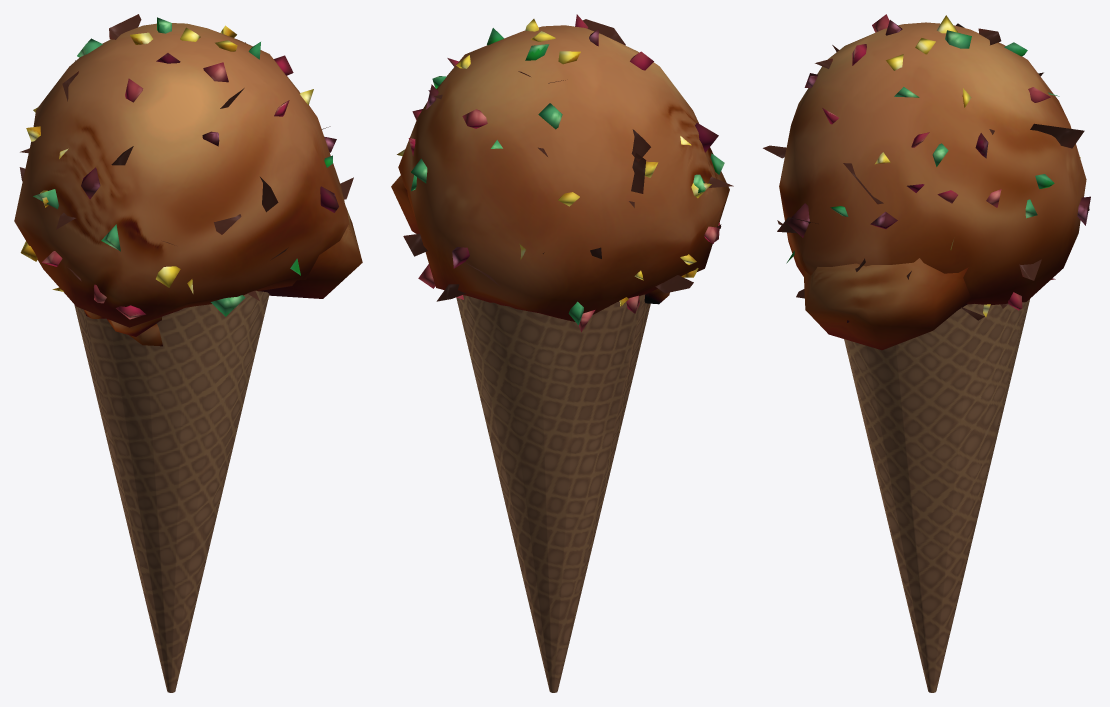
The model's file is icecreamChocowithtop.fbx.
3 renders of one model, left to right at view 1: azimuth 30°, elevation 25°; view 2: azimuth 150°, elevation 25°; view 3: azimuth 270°, elevation 25°, orthographic.
Parts seen in each view (by area): view 1: icecreamChocowithtop; view 2: icecreamChocowithtop; view 3: icecreamChocowithtop.
Boxes of the visible parts, bbox=[...] form: icecreamChocowithtop: bbox=[14, 14, 362, 692]; icecreamChocowithtop: bbox=[391, 14, 733, 692]; icecreamChocowithtop: bbox=[763, 14, 1090, 692].
Bounding box in the file's own units: 24.97 × 50.71 × 23.22.
